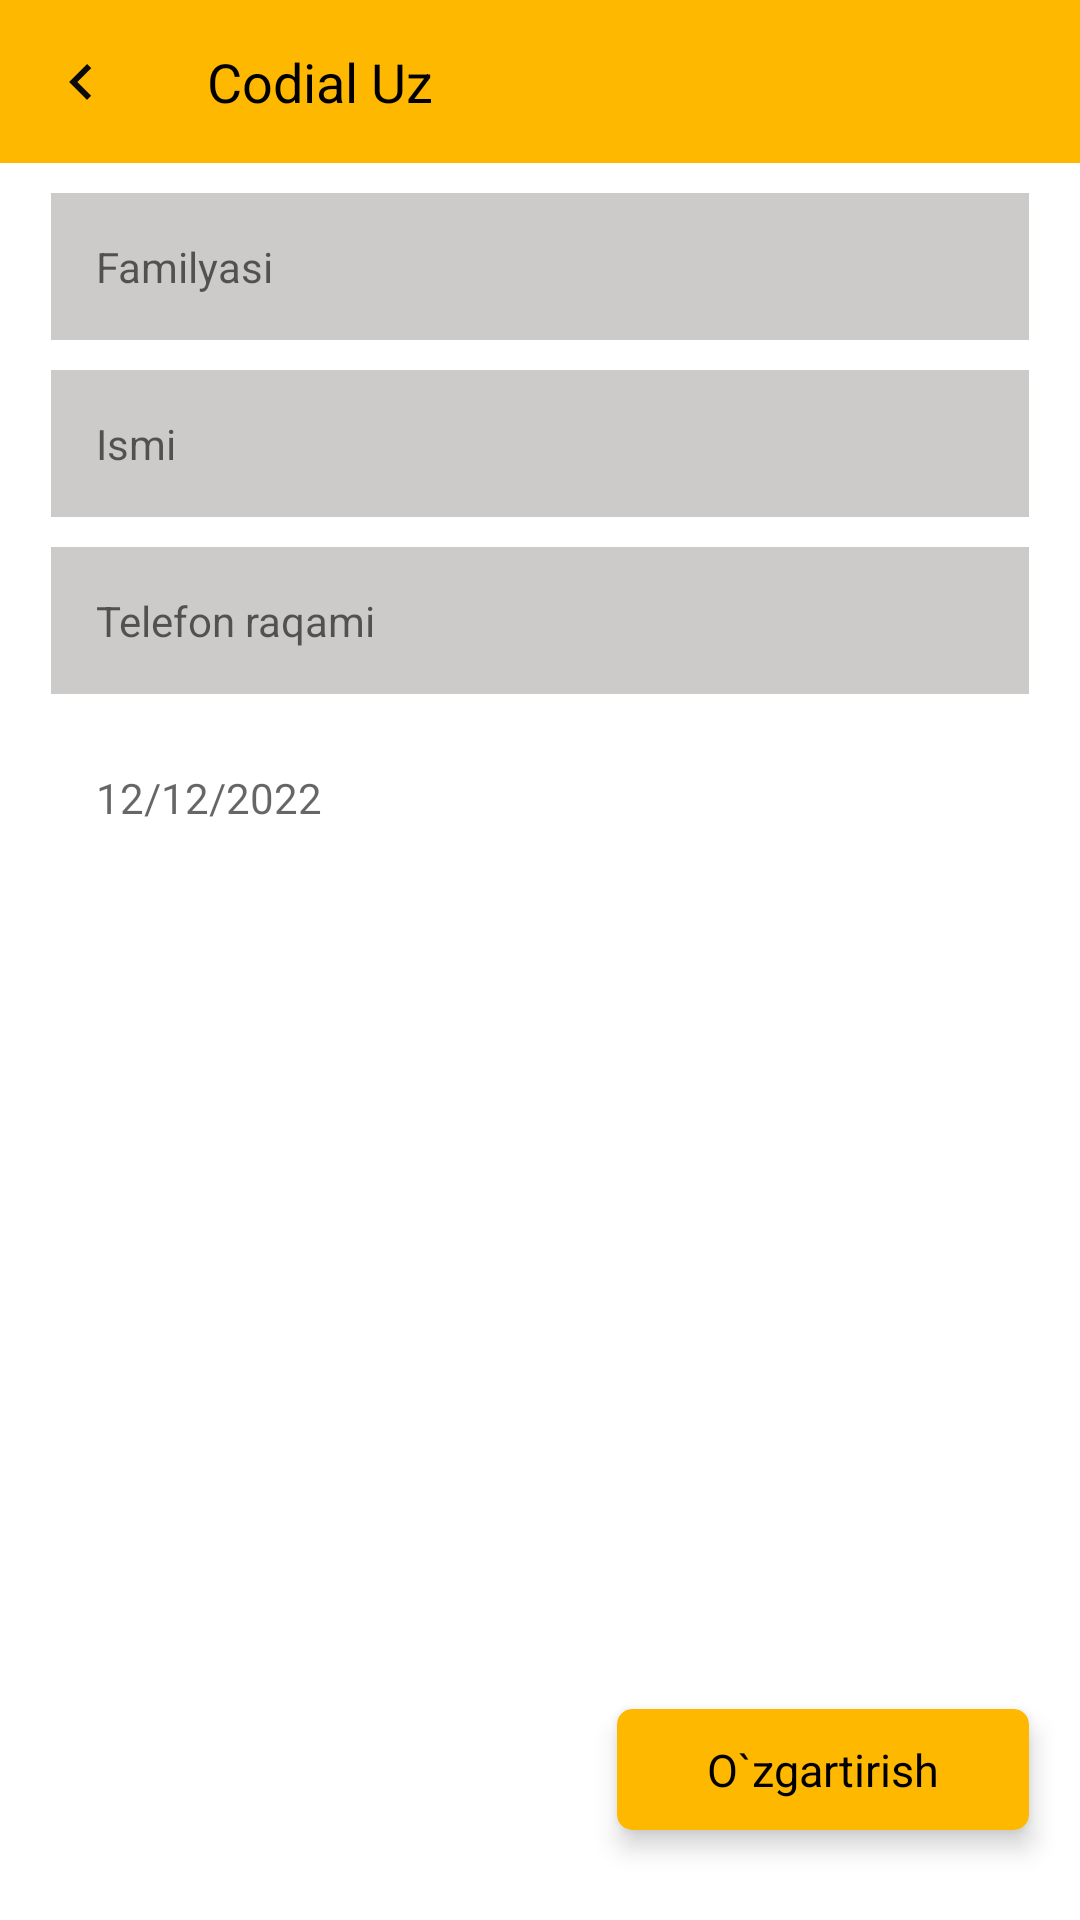

Point at icon controls on the screen. Image size 1080 × 1920, points as [x,y].
keyboard arrow left: [80,82]
